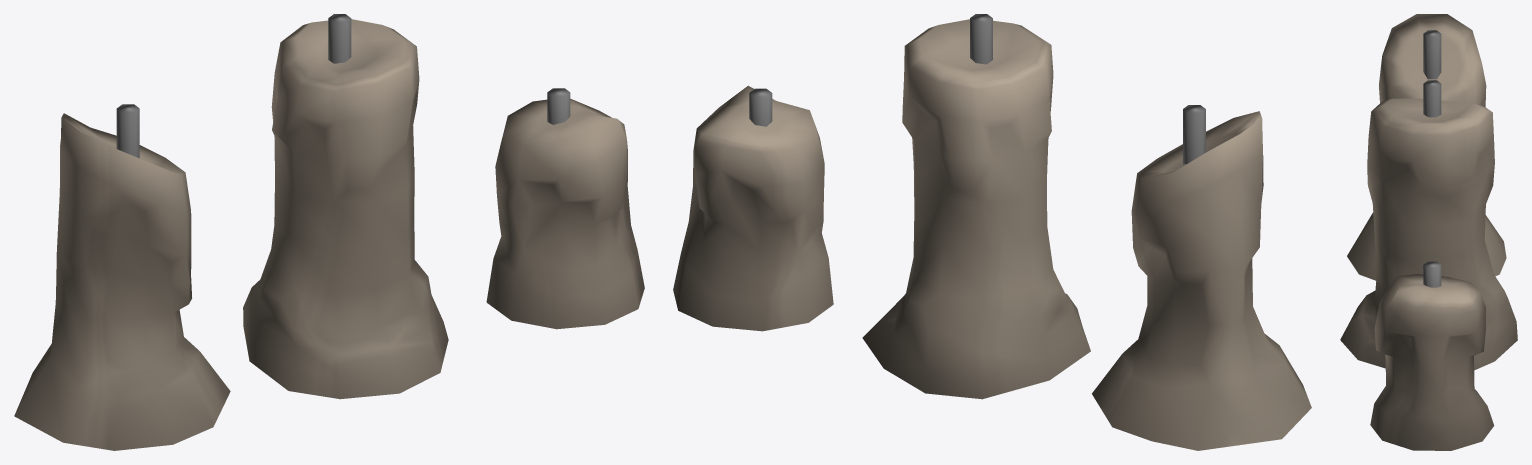
Rendered from swieczki.fbx.
3 renders of one model, left to right at view 1: azimuth 30°, elevation 25°; view 2: azimuth 150°, elevation 25°; view 3: azimuth 270°, elevation 25°, orthographic. The views are drawn at different scales.
Visible parts, largest first — view 1: sw1LP, sw3LP, sw2LP, Cylinder.004, Cylinder, Cylinder.008; view 2: sw1LP, sw3LP, sw2LP, Cylinder.004, Cylinder, Cylinder.008; view 3: sw1LP, sw2LP, sw3LP, Cylinder.004, Cylinder, Cylinder.008.
Boxes of the visible parts, left/top/right/bottom form: sw1LP: left=243, top=19, right=448, bottom=399; sw3LP: left=14, top=113, right=230, bottom=450; sw2LP: left=486, top=98, right=644, bottom=329; Cylinder.004: left=116, top=104, right=139, bottom=158; Cylinder: left=328, top=14, right=351, bottom=63; Cylinder.008: left=547, top=88, right=570, bottom=124; sw1LP: left=862, top=19, right=1090, bottom=399; sw3LP: left=1092, top=111, right=1311, bottom=450; sw2LP: left=673, top=85, right=833, bottom=331; Cylinder.004: left=1183, top=105, right=1205, bottom=164; Cylinder: left=970, top=14, right=992, bottom=64; Cylinder.008: left=749, top=88, right=772, bottom=126; sw1LP: left=1340, top=98, right=1517, bottom=370; sw2LP: left=1370, top=274, right=1494, bottom=450; sw3LP: left=1347, top=14, right=1506, bottom=280; Cylinder.004: left=1423, top=30, right=1441, bottom=79; Cylinder: left=1423, top=80, right=1441, bottom=117; Cylinder.008: left=1423, top=261, right=1441, bottom=287.
Bounding box in the file's own units: 40.36 × 21.15 × 13.28.
